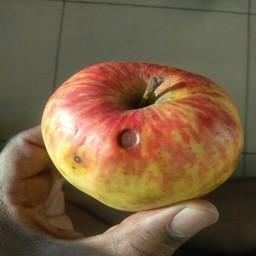Bad_apple: (41, 61, 240, 204)
